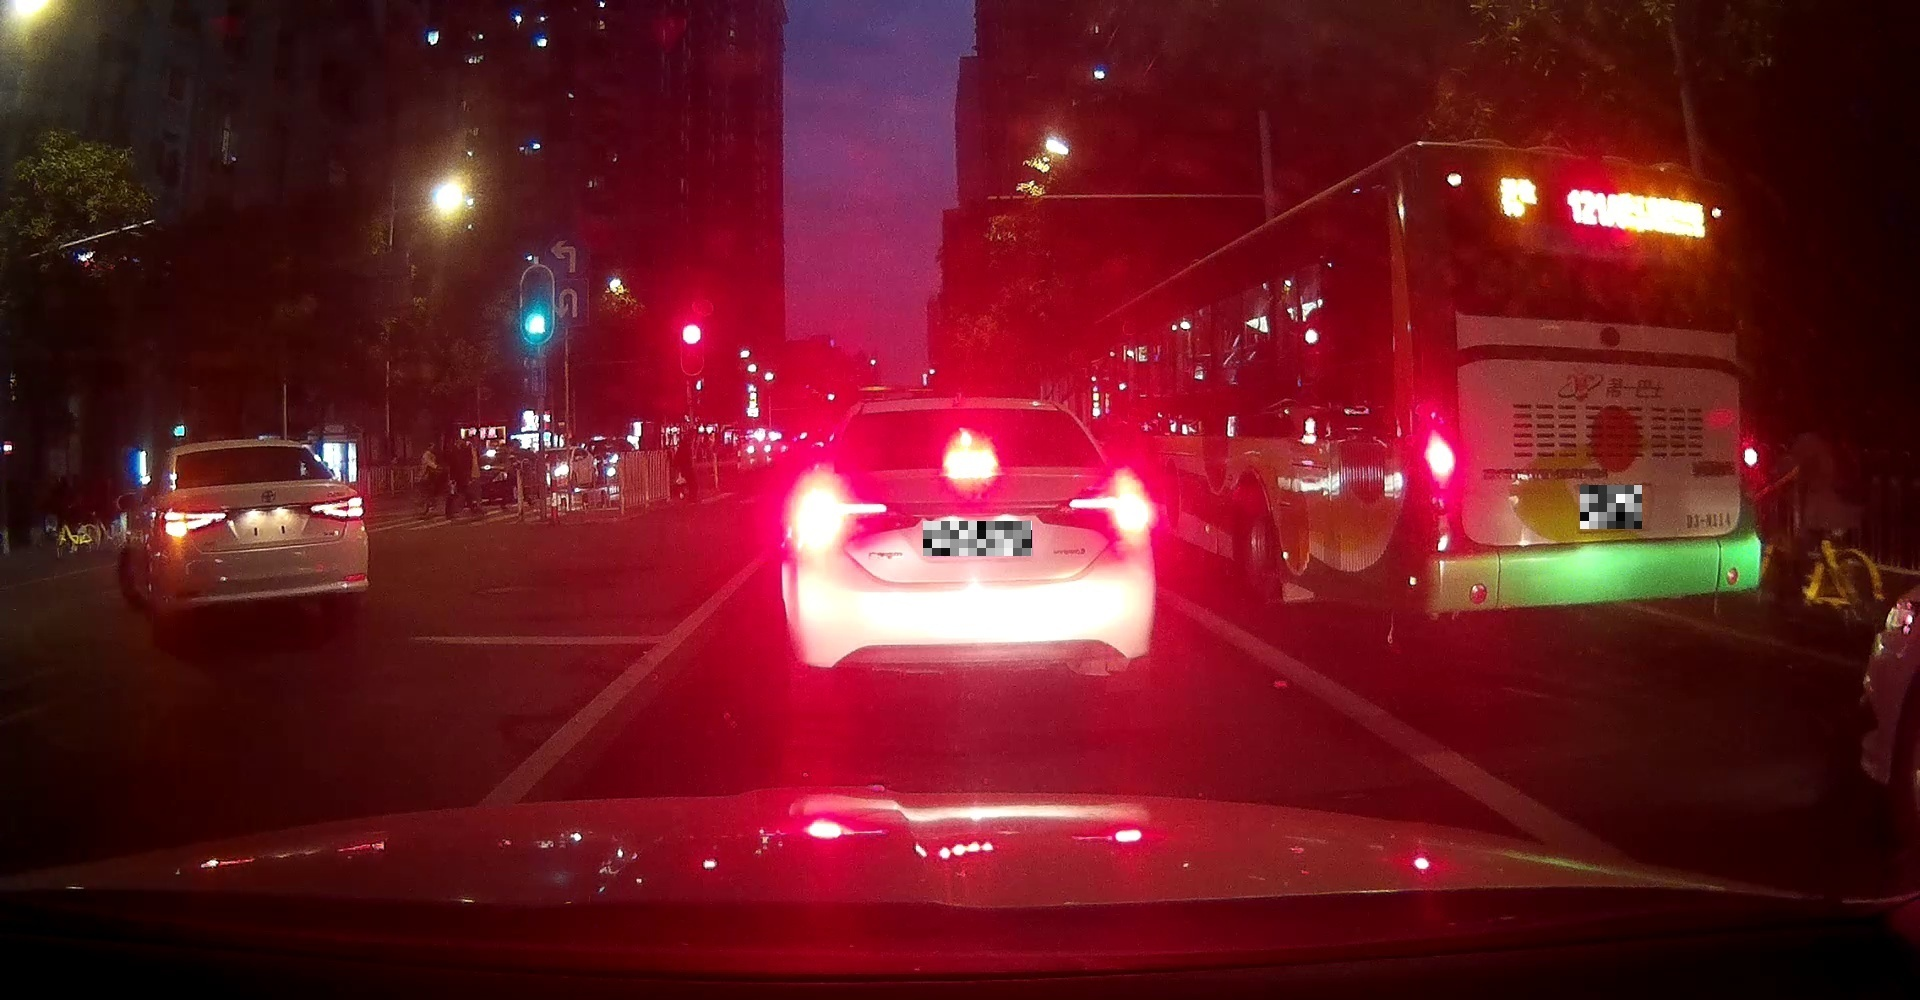L_light: (785, 472, 888, 556), (1415, 412, 1458, 497), (160, 508, 227, 539)
R_light: (1068, 470, 1153, 548), (310, 494, 364, 519), (1737, 433, 1760, 490)
T_light: (940, 435, 1001, 484), (1570, 173, 1619, 187), (227, 444, 270, 452)
night-brake: (778, 397, 1156, 692)
night-left: (154, 440, 370, 633)
night-no: (1408, 142, 1763, 638)
plate_1: (923, 522, 1032, 556)
plate_2: (1580, 485, 1642, 529)
